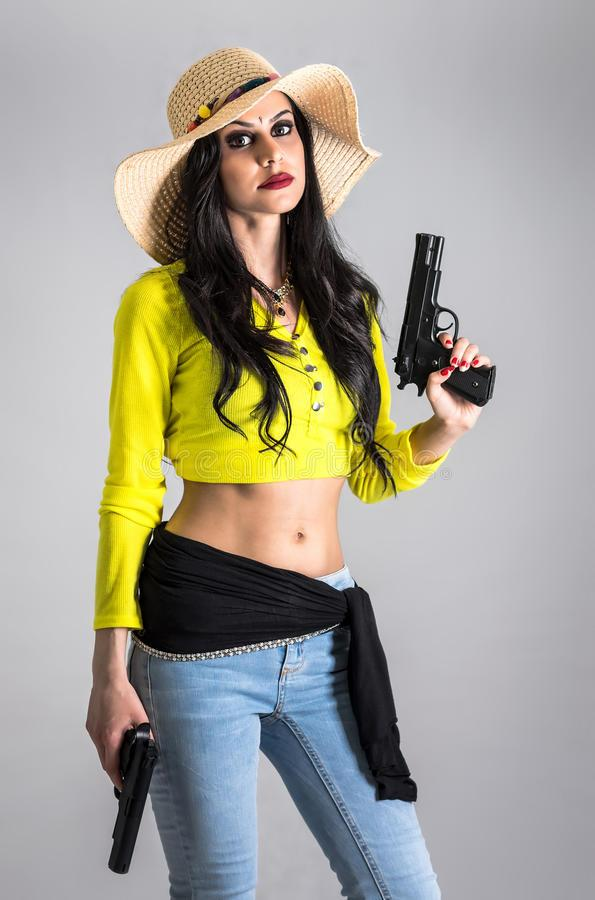criminal: (81, 46, 502, 900)
weapon: (392, 228, 500, 413), (96, 714, 168, 878)
